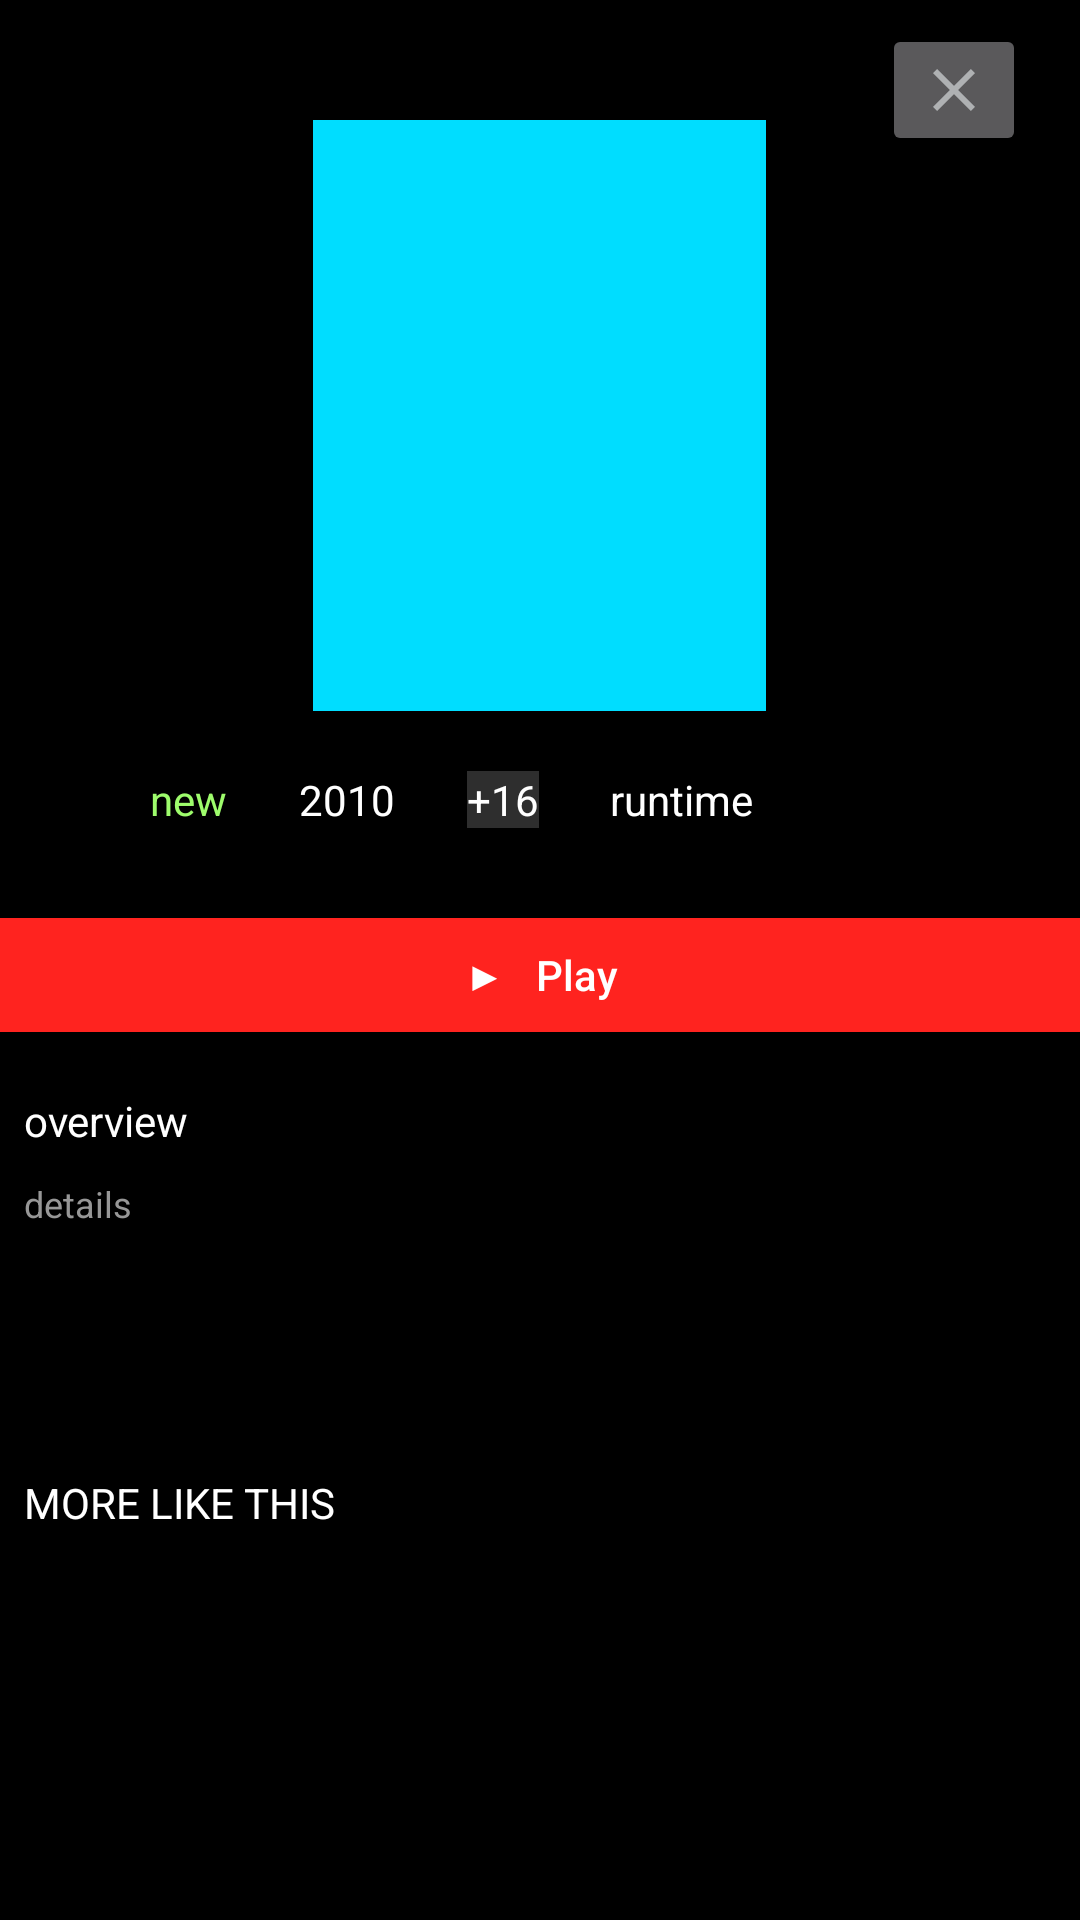

Named icons in this screenshot (1080×1920) and their centers, (x=x, y=y):
close: (x=954, y=90)
